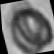correct: (3, 3, 54, 54)
